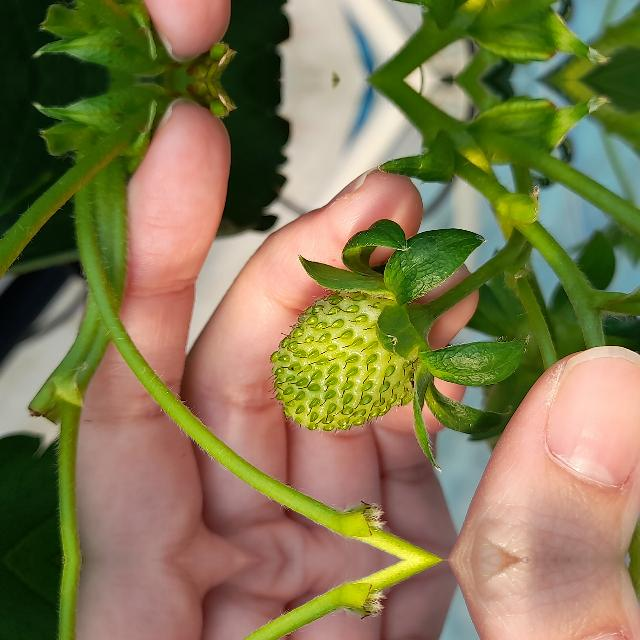Health_25: (269, 289, 413, 436)
